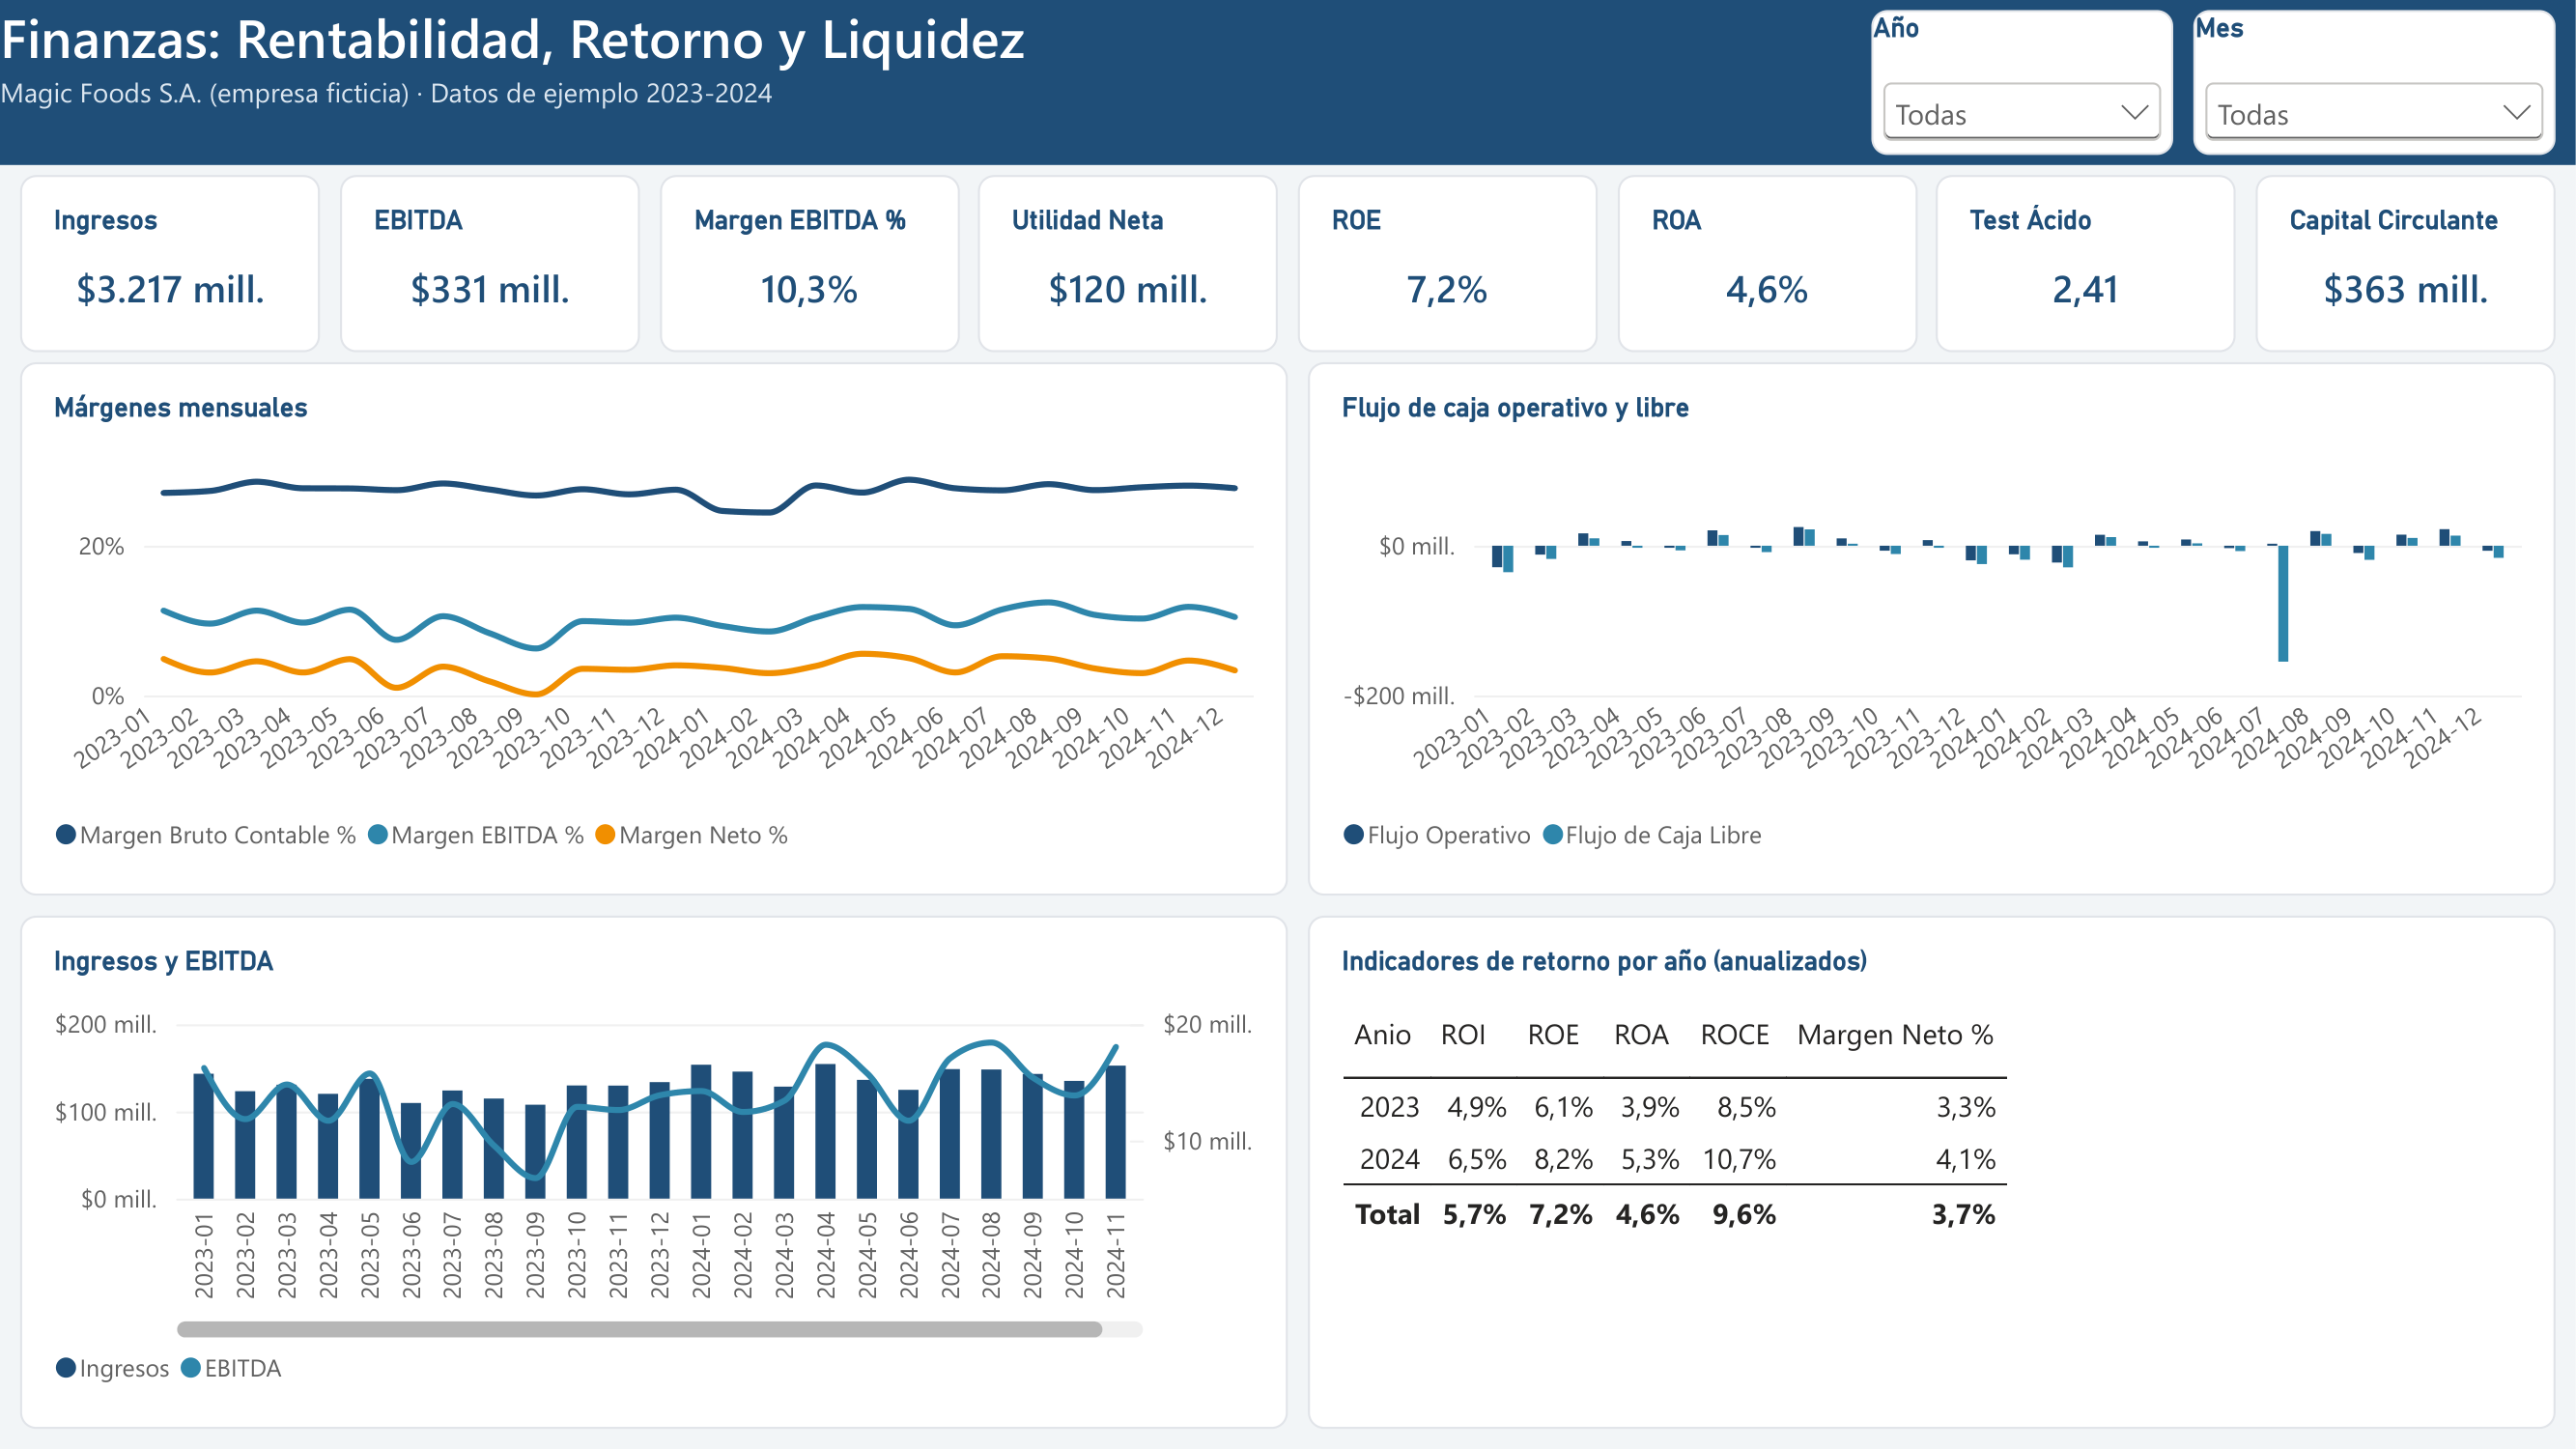

Layout of this report page (visuals, bound fields, positions):
{"tool":"tableau","page":{"name":"Finanzas","canvas":[1280,720],"ordinal":2},"visuals":[{"type":"text","box":[0,0,1280,82]},{"type":"parameter","param":"[Parameters].[pAnio]","box":[930,8,150,66]},{"type":"parameter","param":"[Parameters].[pMes]","box":[1090,8,180,66]},{"type":"worksheet","title":"F · Ingresos","mark":"Text","box":[10,87,149,88]},{"type":"worksheet","title":"F · EBITDA","mark":"Text","box":[169,87,149,88]},{"type":"worksheet","title":"F · Margen EBITDA","mark":"Text","box":[328,87,149,88]},{"type":"worksheet","title":"F · Utilidad Neta","mark":"Text","box":[486,87,149,88]},{"type":"worksheet","title":"F · ROE","mark":"Text","box":[645,87,149,88]},{"type":"worksheet","title":"F · ROA","mark":"Text","box":[804,87,149,88]},{"type":"worksheet","title":"F · Test Acido","mark":"Text","box":[962,87,149,88]},{"type":"worksheet","title":"F · Capital Circulante","mark":"Text","box":[1121,87,149,88]},{"type":"worksheet","title":"F · Margenes Mensuales","mark":"Line","cols":["Fecha"],"box":[10,180,510,265]},{"type":"worksheet","title":"F · Flujo de Caja","mark":"Bar","cols":["Fecha"],"box":[650,180,500,265]},{"type":"legend","title":"F · Margenes Mensuales","param":"[federated.c989712e880443a42d6e891e9ac1].[:Measure Names]","box":[520,212,112,225]},{"type":"legend","title":"F · Flujo de Caja","param":"[federated.c989712e880443a42d6e891e9ac1].[:Measure Names]","box":[1150,212,112,225]},{"type":"worksheet","title":"F · Ingresos y EBITDA","mark":"Automatic","rows":["IngresosT","EBITDAm"],"cols":["Fecha"],"box":[10,455,630,255]},{"type":"worksheet","title":"F · Retornos por Anio","mark":"Text","rows":["Fecha"],"box":[650,455,620,255]}]}

Visuals, with their boxes in screenshot pixels (x1, y1, x2, y2), scaled from the page's 1280x720 canvas onto the 2576x1449 screenshot:
text: bbox=(0, 0, 2575, 165)
parameter: bbox=(1872, 16, 2173, 149)
parameter: bbox=(2194, 16, 2556, 149)
"F · Ingresos" worksheet (Text marks): bbox=(20, 175, 320, 353)
"F · EBITDA" worksheet (Text marks): bbox=(340, 175, 640, 353)
"F · Margen EBITDA" worksheet (Text marks): bbox=(660, 175, 960, 353)
"F · Utilidad Neta" worksheet (Text marks): bbox=(978, 175, 1278, 353)
"F · ROE" worksheet (Text marks): bbox=(1298, 175, 1598, 353)
"F · ROA" worksheet (Text marks): bbox=(1618, 175, 1918, 353)
"F · Test Acido" worksheet (Text marks): bbox=(1936, 175, 2236, 353)
"F · Capital Circulante" worksheet (Text marks): bbox=(2256, 175, 2556, 353)
"F · Margenes Mensuales" worksheet (Line marks): bbox=(20, 362, 1046, 895)
"F · Flujo de Caja" worksheet (Bar marks): bbox=(1308, 362, 2314, 895)
"F · Margenes Mensuales" legend: bbox=(1046, 427, 1272, 879)
"F · Flujo de Caja" legend: bbox=(2314, 427, 2539, 879)
"F · Ingresos y EBITDA" worksheet: bbox=(20, 916, 1288, 1429)
"F · Retornos por Anio" worksheet (Text marks): bbox=(1308, 916, 2556, 1429)
